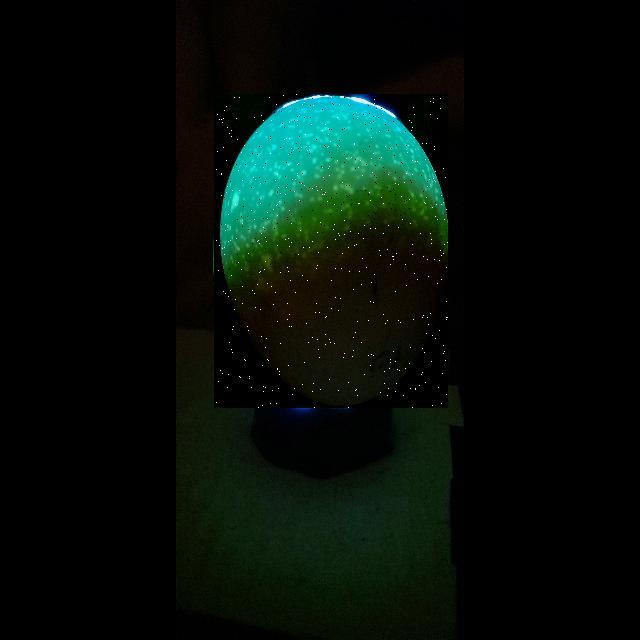Infertile: (214, 94, 448, 408)
